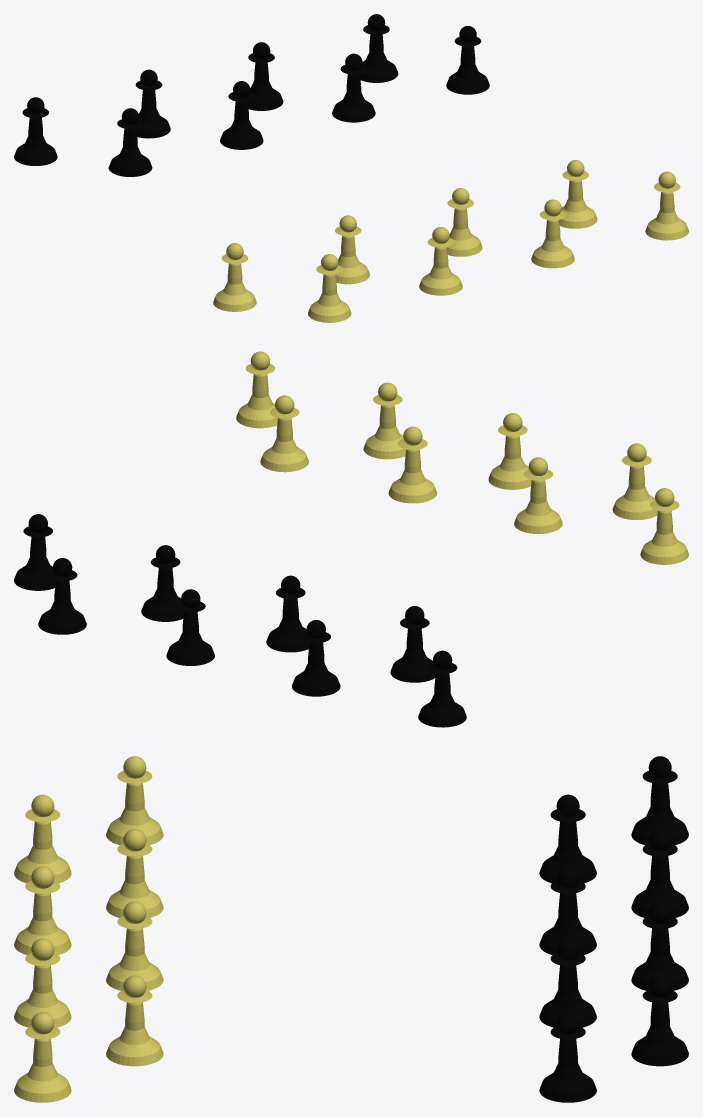
The model's file is checkers2.obj.
3 renders of one model, top to bottom at view 1: azimuth 30°, elevation 25°; view 2: azimuth 150°, elevation 25°; view 3: azimuth 270°, elevation 25°, orthographic. The views are drawn at different scales.
Parts seen in each view (by area): view 1: Cylinder.006, Cylinder, Cylinder.015, Cylinder.014, Cylinder.005, Cylinder.007, Cylinder.008, Cylinder.009, Cylinder.001, Cylinder.013, Cylinder.004, Cylinder.012 (+4 smaller); view 2: Cylinder.003, Cylinder.008, Cylinder.002, Cylinder.012, Cylinder.010, Cylinder.004, Cylinder, Cylinder.011, Cylinder.009, Cylinder.001, Cylinder.005, Cylinder.013 (+4 smaller); view 3: Cylinder.015, Cylinder.007, Cylinder.004, Cylinder.012, Cylinder.011, Cylinder.003, Cylinder.014, Cylinder.006, Cylinder, Cylinder.008, Cylinder.010, Cylinder.002 (+4 smaller).
Part boxes in pixels (x1,y1,x2,y2): Cylinder.006: [531, 199, 574, 268]; Cylinder: [213, 243, 256, 311]; Cylinder.015: [446, 26, 489, 94]; Cylinder.014: [332, 53, 375, 122]; Cylinder.005: [419, 227, 462, 295]; Cylinder.007: [645, 171, 688, 240]; Cylinder.008: [14, 97, 57, 165]; Cylinder.009: [108, 108, 152, 176]; Cylinder.001: [308, 254, 351, 322]; Cylinder.013: [220, 81, 263, 149]; Cylinder.004: [559, 160, 597, 228]; Cylinder.012: [360, 14, 398, 82]; Cylinder.003: [388, 426, 437, 503]; Cylinder.008: [418, 650, 466, 727]; Cylinder.002: [514, 457, 562, 533]; Cylinder.012: [38, 558, 86, 634]; Cylinder.010: [292, 620, 340, 696]; Cylinder.004: [260, 395, 308, 472]; Cylinder: [640, 488, 688, 564]; Cylinder.011: [166, 589, 214, 665]; Cylinder.009: [390, 606, 435, 682]; Cylinder.001: [612, 443, 657, 519]; Cylinder.005: [488, 413, 531, 489]; Cylinder.013: [266, 575, 309, 652]; Cylinder.015: [539, 1012, 596, 1102]; Cylinder.007: [14, 1012, 71, 1102]; Cylinder.004: [106, 975, 163, 1066]; Cylinder.012: [631, 975, 688, 1066]; Cylinder.011: [631, 901, 688, 990]; Cylinder.003: [106, 901, 163, 990]; Cylinder.014: [539, 938, 596, 1027]; Cylinder.006: [14, 938, 71, 1027]; Cylinder: [106, 756, 163, 845]; Cylinder.008: [631, 756, 688, 845]; Cylinder.010: [631, 829, 688, 917]; Cylinder.002: [106, 829, 163, 917].
Bounding box in the file's own units: 0.575 × 0.0743 × 0.5857.
